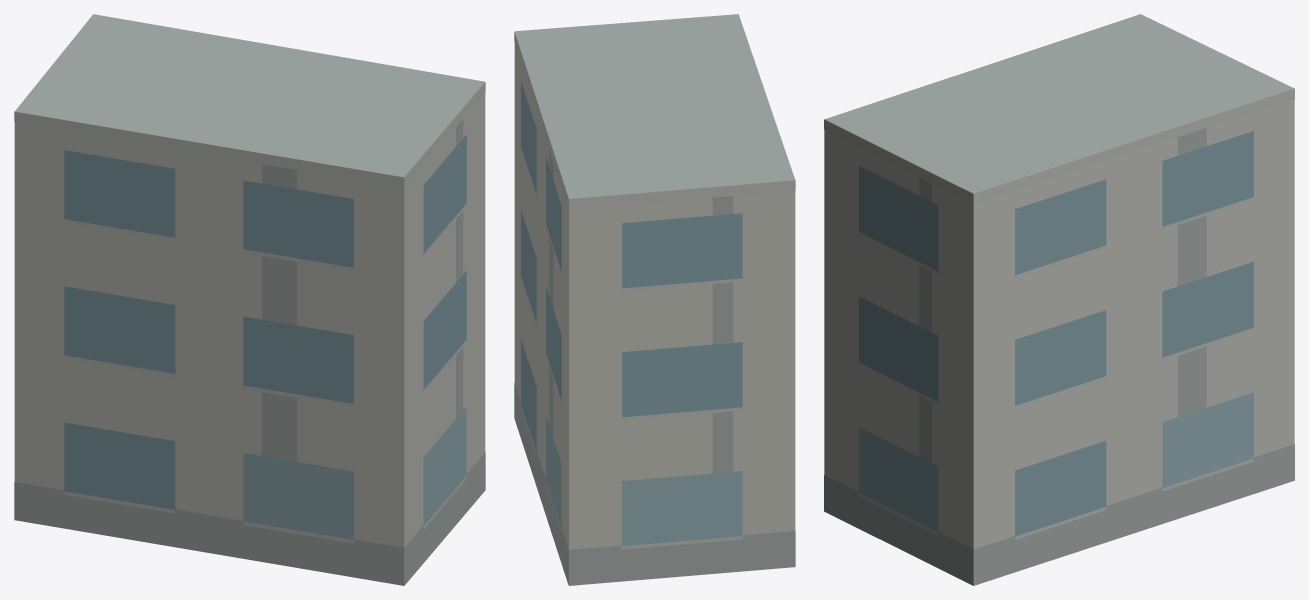
Rendered from survey-upis-32644350.glb.
3 views of the same model, side by side, from view 1: azimuth 30°, elevation 25°; view 2: azimuth 150°, elevation 25°; view 3: azimuth 270°, elevation 25° (orthographic). The views are drawn at different scales.
Parts seen in each view (by area): view 1: survey-upis-32644350.tmp; view 2: survey-upis-32644350.tmp; view 3: survey-upis-32644350.tmp.
Boxes of the visible parts, box(x1,y1,x2,y2) form: survey-upis-32644350.tmp: box(14, 14, 485, 585); survey-upis-32644350.tmp: box(514, 14, 795, 585); survey-upis-32644350.tmp: box(824, 14, 1294, 585).
Bounding box in the file's own units: 9.01 × 9.15 × 9.96.
